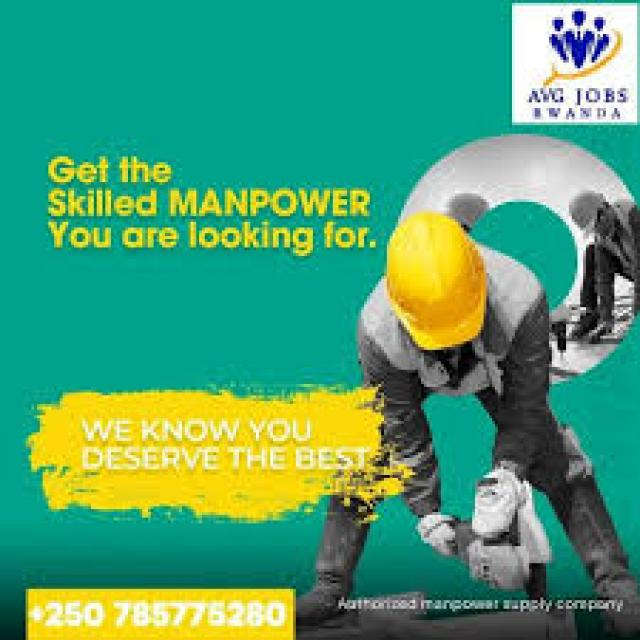Safety-Helmet: (373, 205, 495, 358)
